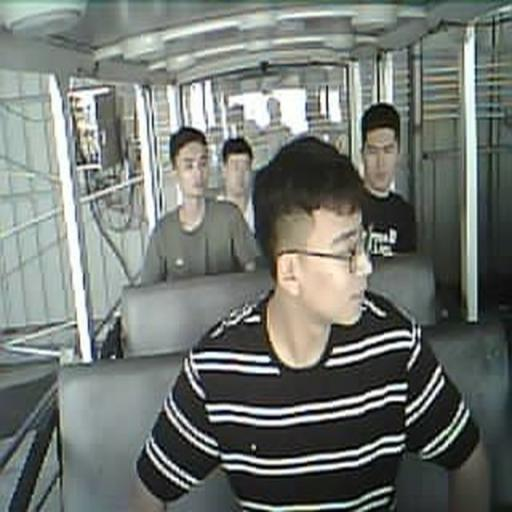persona: (135, 134, 480, 511), (134, 126, 262, 286), (355, 102, 418, 257), (214, 136, 258, 235)
